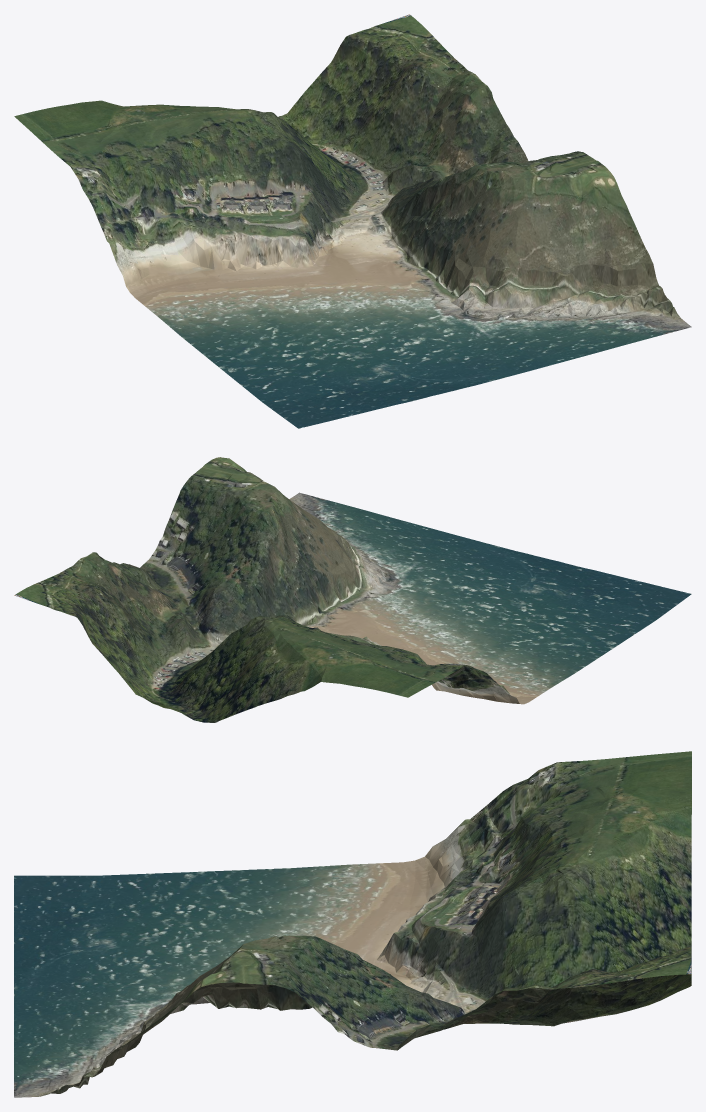
File: caswell_v2.dae
3 views of the same model, one above another, from view 1: azimuth 30°, elevation 25°; view 2: azimuth 150°, elevation 25°; view 3: azimuth 270°, elevation 25° (orthographic). The views are drawn at different scales.
Parts seen in each view (by area): view 1: ss5987_dtm_2m.asc; view 2: ss5987_dtm_2m.asc; view 3: ss5987_dtm_2m.asc.
Part boxes in pixels (x1,y1,x2,y2): ss5987_dtm_2m.asc: (14,14,691,428); ss5987_dtm_2m.asc: (14,457,691,722); ss5987_dtm_2m.asc: (14,751,691,1097).
Bounding box in the file's own units: 275 × 343 × 73.35.
Materials: 1 (1 with a texture image).
